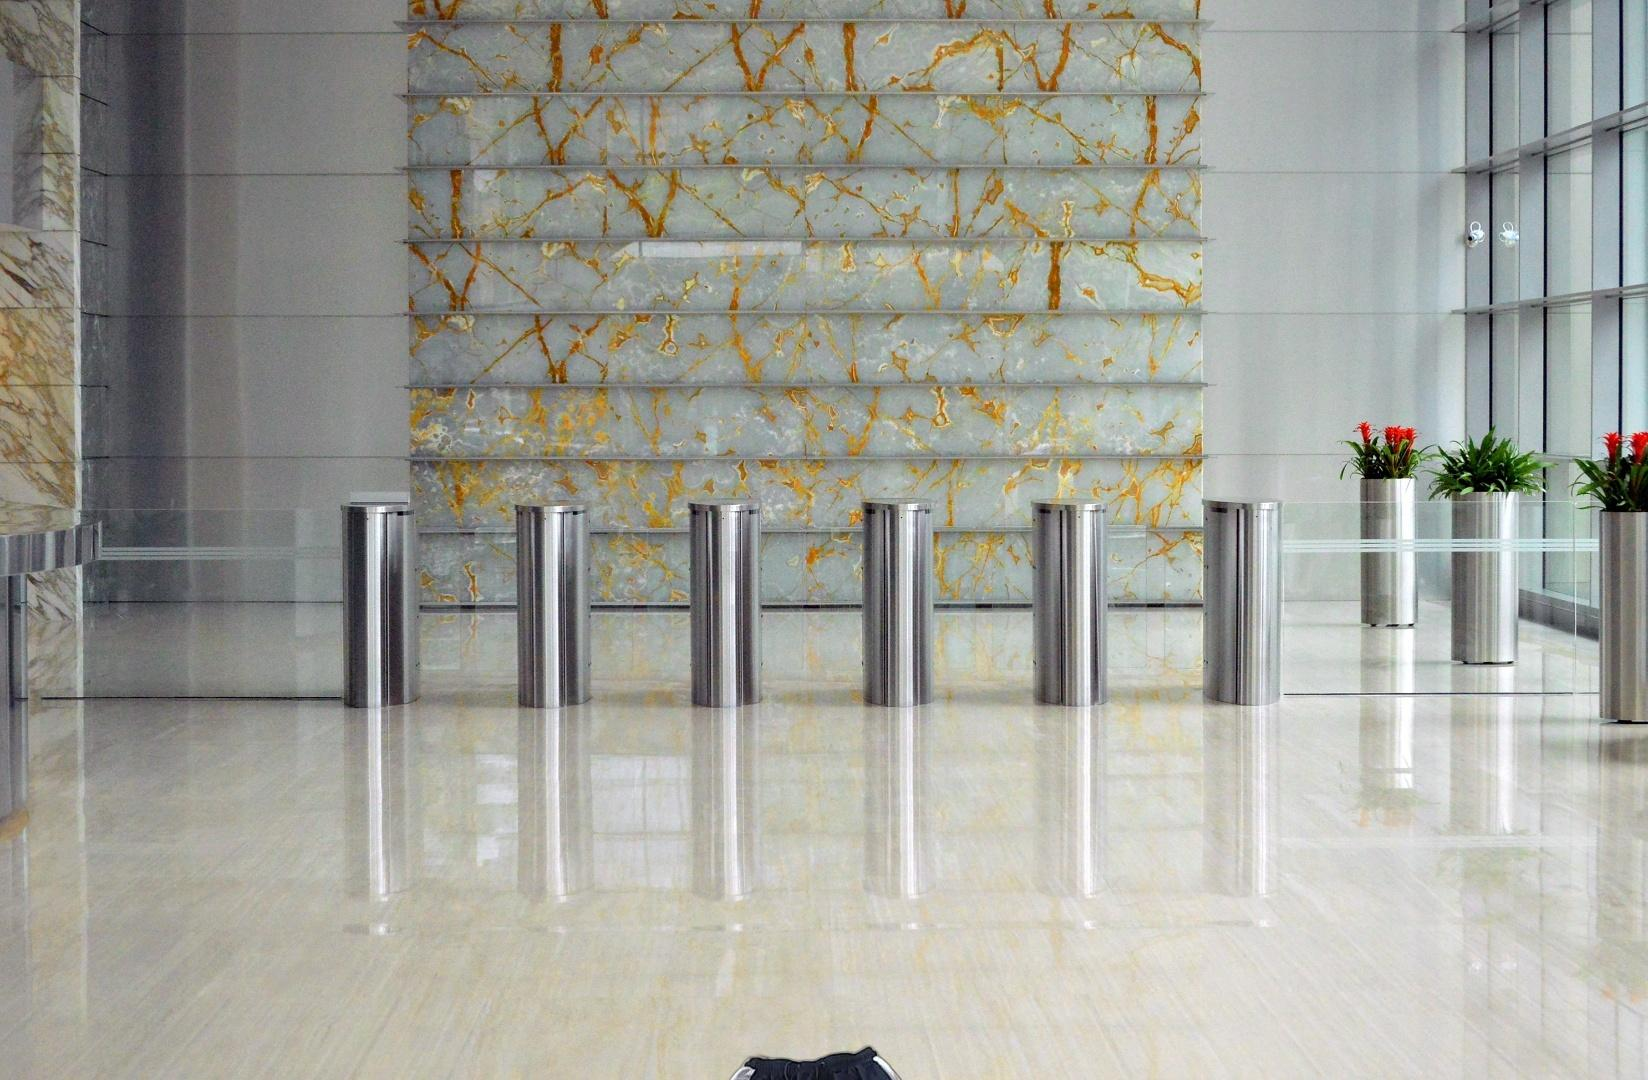clothes: (617, 1043, 1024, 1080)
